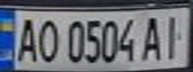0: (63, 16, 84, 64), (100, 16, 121, 63)
4: (118, 15, 142, 63)
5: (81, 16, 103, 64)
A: (12, 14, 42, 63), (139, 12, 166, 62)
I: (160, 11, 187, 61)
O: (33, 16, 60, 64)
